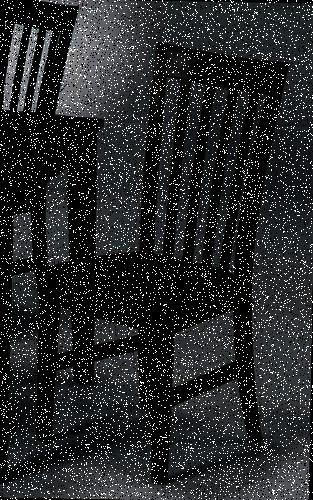Silla: (32, 42, 283, 489)
